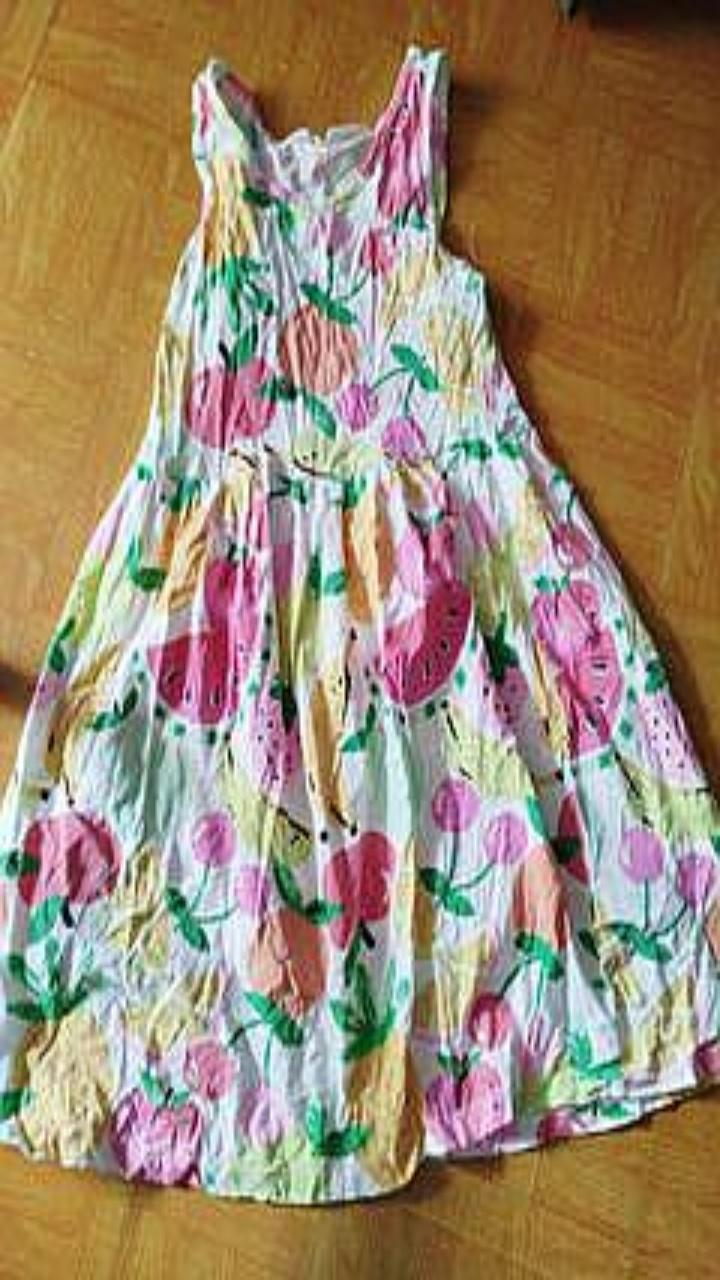Dresses: (0, 45, 719, 1201)
